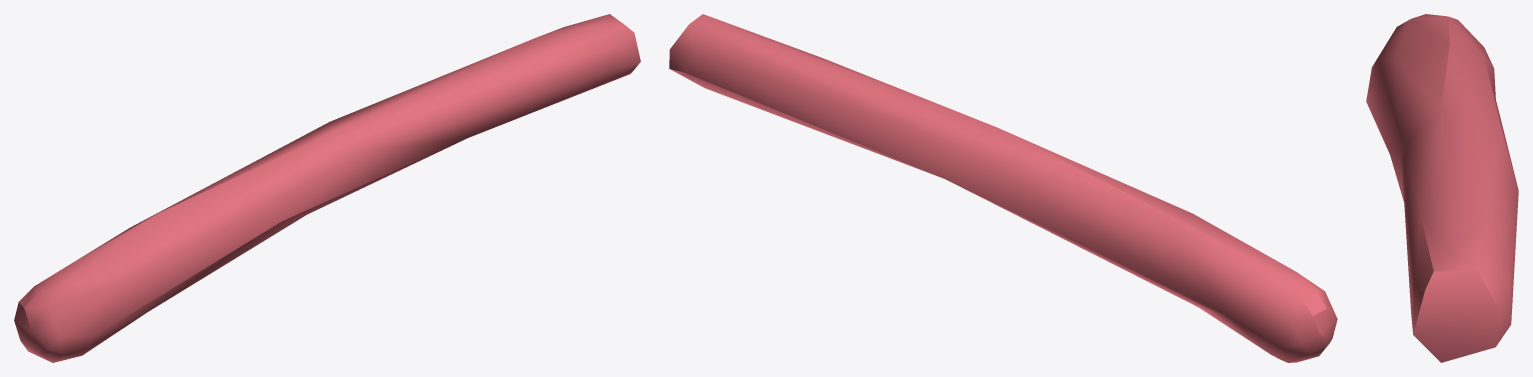
File: fma8670_fj6124.glb
The picture shows the model from 3 angles, left to right: view 1: azimuth 30°, elevation 25°; view 2: azimuth 150°, elevation 25°; view 3: azimuth 270°, elevation 25°; orthographic projection. The views are drawn at different scales.
Visible parts, largest first — view 1: FMA8670_FJ6124; view 2: FMA8670_FJ6124; view 3: FMA8670_FJ6124.
Part boxes in pixels (box(x1,y1,x2,y2)): FMA8670_FJ6124: box(14, 14, 640, 362); FMA8670_FJ6124: box(669, 14, 1337, 362); FMA8670_FJ6124: box(1366, 14, 1518, 362).
Size of the model in its own units: 0.0158 by 0.00479 by 0.00214.
